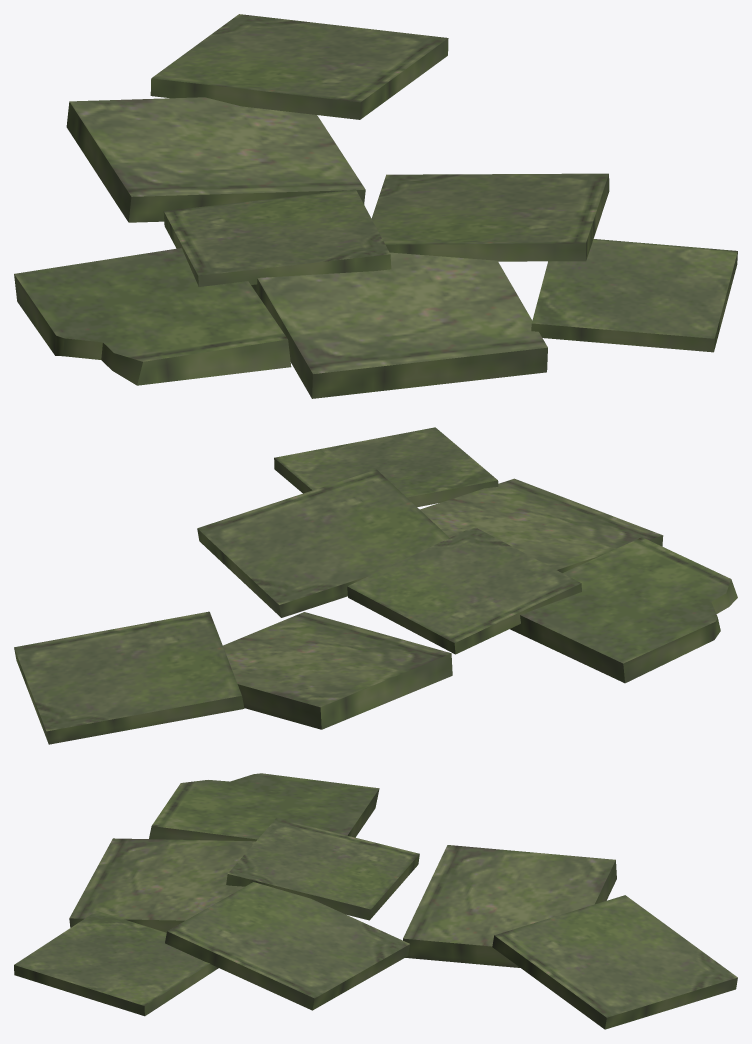
File: 5004_Item_dimian_2.FBX
3 renders of one model, top to bottom at view 1: azimuth 30°, elevation 25°; view 2: azimuth 150°, elevation 25°; view 3: azimuth 270°, elevation 25°, orthographic. The views are drawn at different scales.
Visible parts, largest first — view 1: 5004_Item_dimian_2; view 2: 5004_Item_dimian_2; view 3: 5004_Item_dimian_2.
Boxes of the visible parts, bbox=[...] form: 5004_Item_dimian_2: bbox=[14, 14, 737, 398]; 5004_Item_dimian_2: bbox=[14, 427, 737, 744]; 5004_Item_dimian_2: bbox=[14, 773, 737, 1029].
Bounding box in the file's own units: 37568 × 3962 × 49677.
